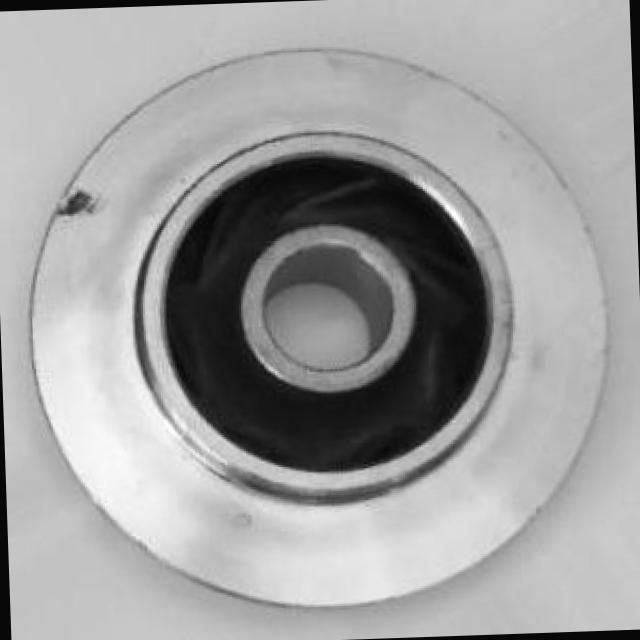Defect: (51, 186, 112, 223)
